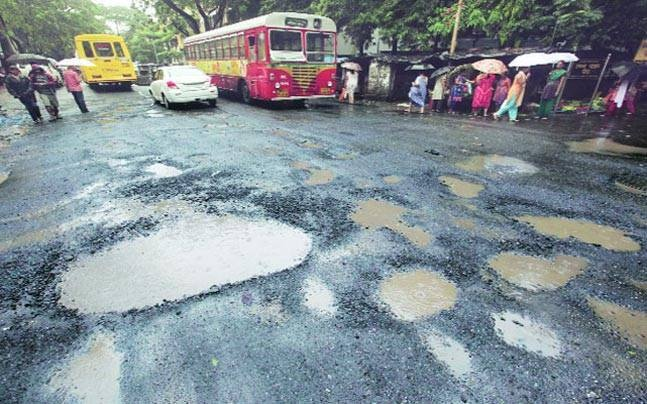pothole: (44, 204, 317, 297), (358, 253, 472, 325), (501, 202, 645, 259), (481, 236, 612, 293), (482, 304, 583, 363), (341, 194, 441, 245), (406, 318, 477, 383), (432, 168, 490, 208), (130, 153, 200, 179)
